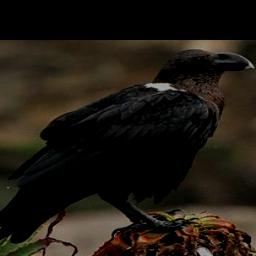Crow: (0, 47, 250, 250)
